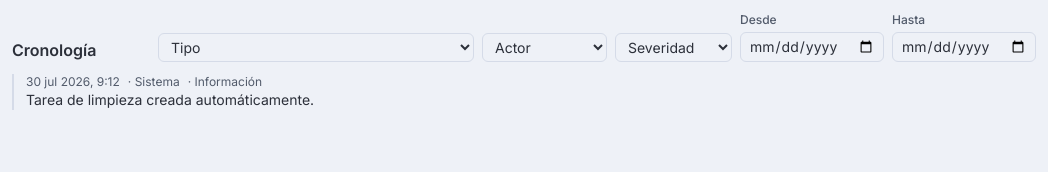
PropertyTimeline — date range (R4.1, R4.2, R4.3, R4.4) › an inverse range shows a field error and does NOT change the query (R4.3)
This screenshot has width=1048, height=172.
In the date field labelled "Desde": (812, 47) [740,32,884,62], type "2026-08-31"
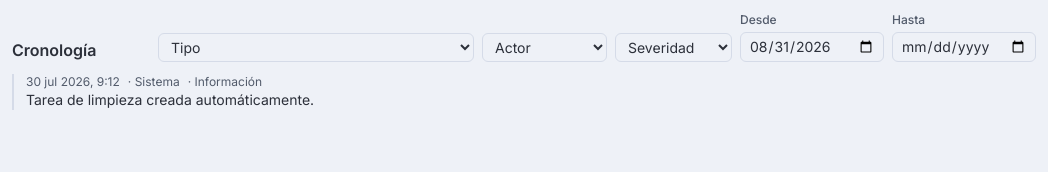
In the date field labelled "Hasta": (964, 47) [892,32,1036,62], type "2026-08-01"
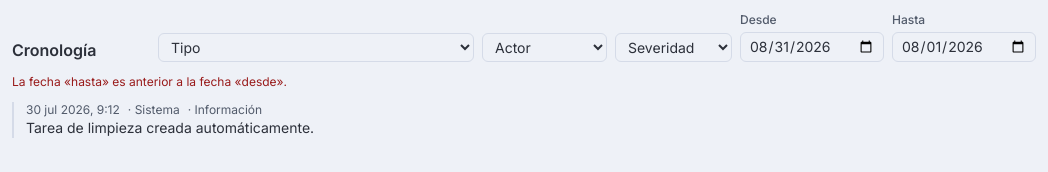
Now the text "La fecha «hasta» es anterior a la fecha «desde»." is shown, box [12,74,287,89]
